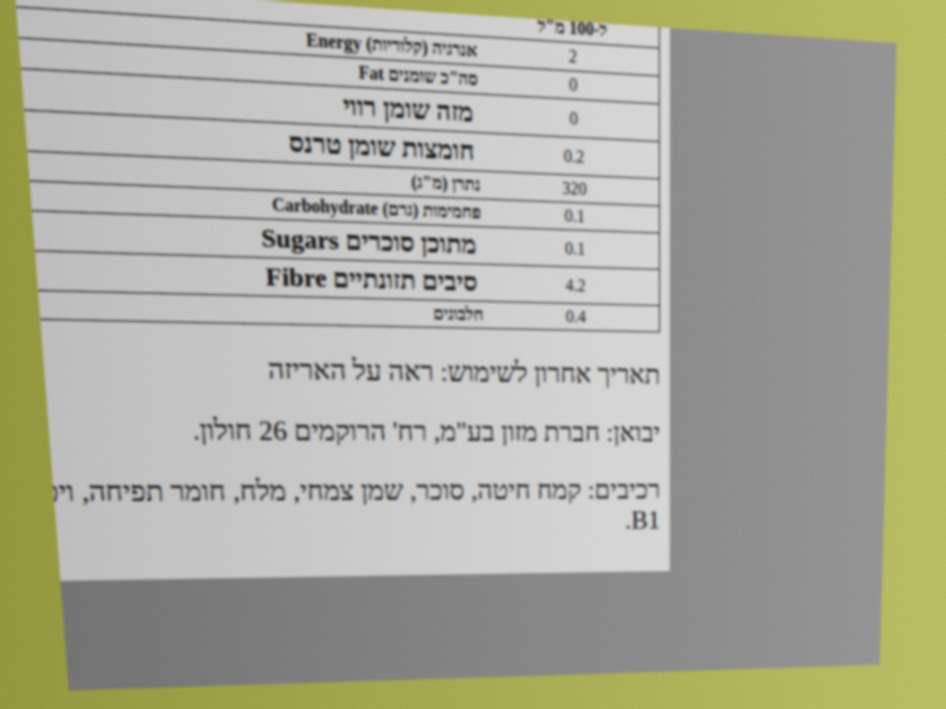carbs: (562, 204, 587, 228)
energy: (566, 44, 580, 69)
fat: (567, 72, 580, 97)
protein: (563, 305, 588, 328)
